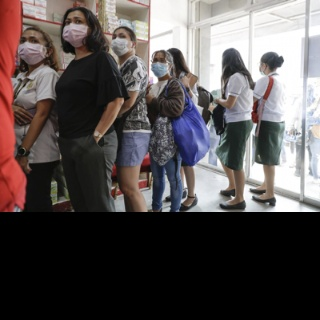with_mask: (18, 34, 47, 65), (61, 16, 89, 48), (111, 32, 130, 56), (151, 56, 169, 78), (258, 61, 268, 77)
